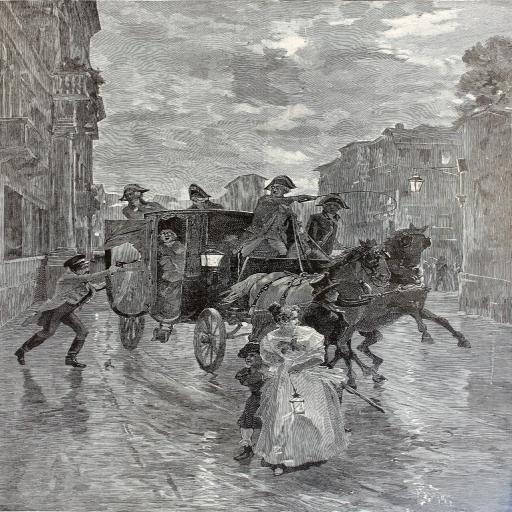horse: (218, 238, 394, 390), (346, 221, 472, 351)
